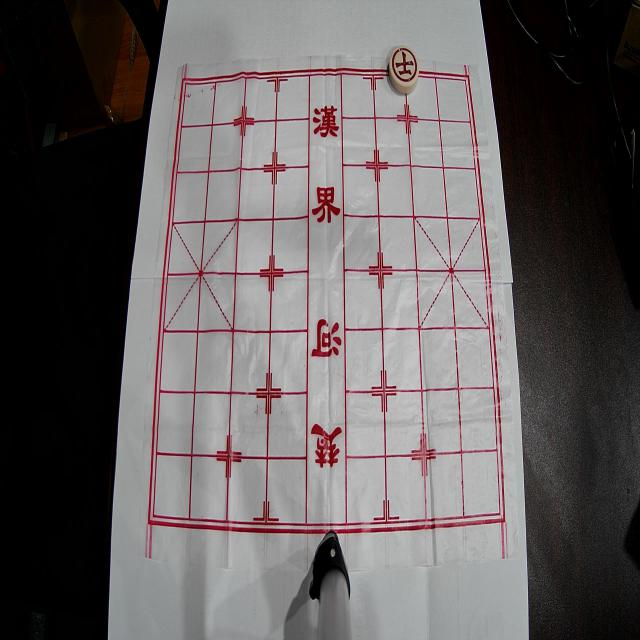red-guard: (389, 45, 419, 94)
